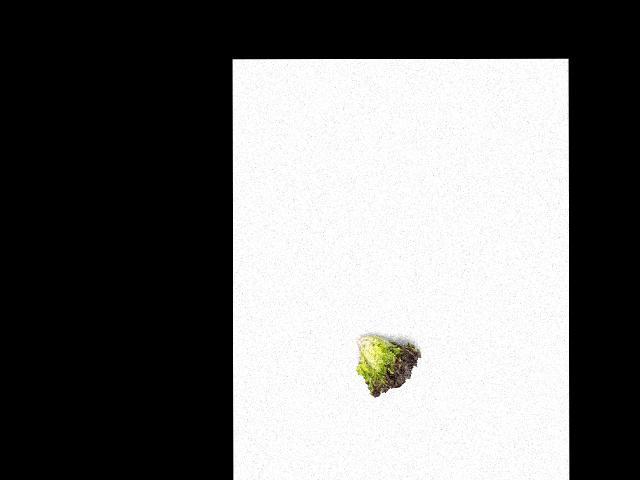lettuce: (353, 335, 425, 396)
